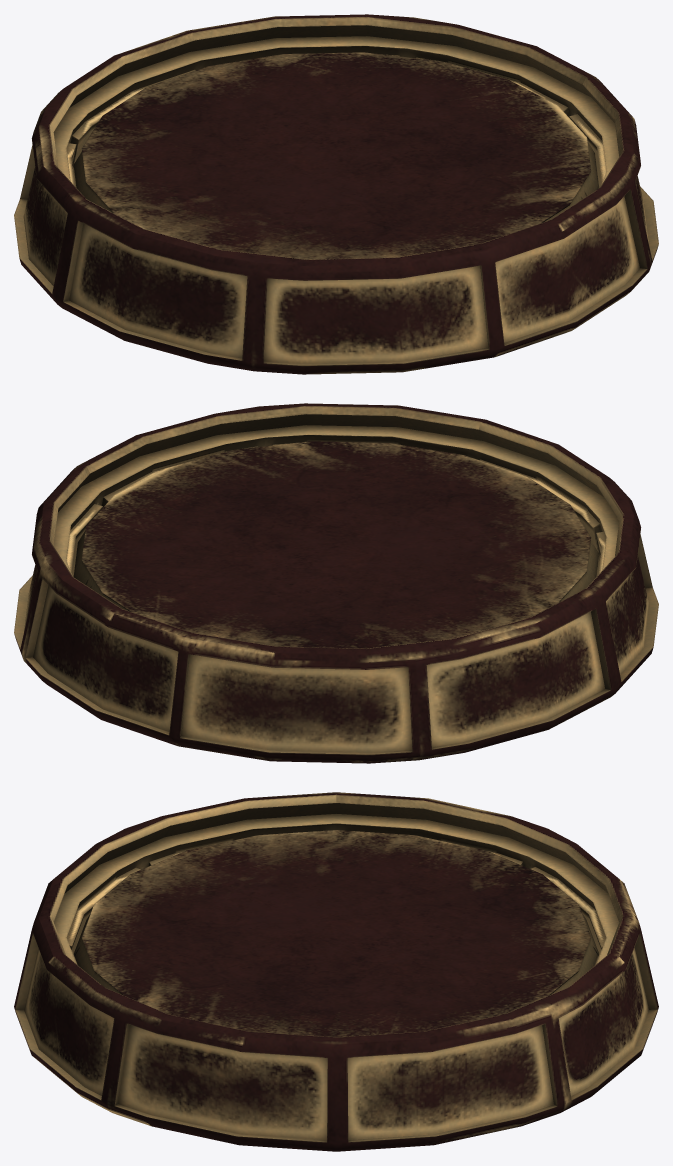
File: star_wars_tatooine_barrel_top.glb
The picture shows the model from 3 angles, top to bottom: view 1: azimuth 30°, elevation 25°; view 2: azimuth 150°, elevation 25°; view 3: azimuth 270°, elevation 25°; orthographic projection.
Visible parts, largest first — view 1: Top; view 2: Top; view 3: Top.
Part boxes in pixels (x1,y1,x2,y2): Top: [14, 14, 658, 374]; Top: [14, 403, 658, 763]; Top: [14, 792, 658, 1151].
Bounding box in the file's own units: 0.187 × 0.0334 × 0.187.
1 material, 1 textured.
